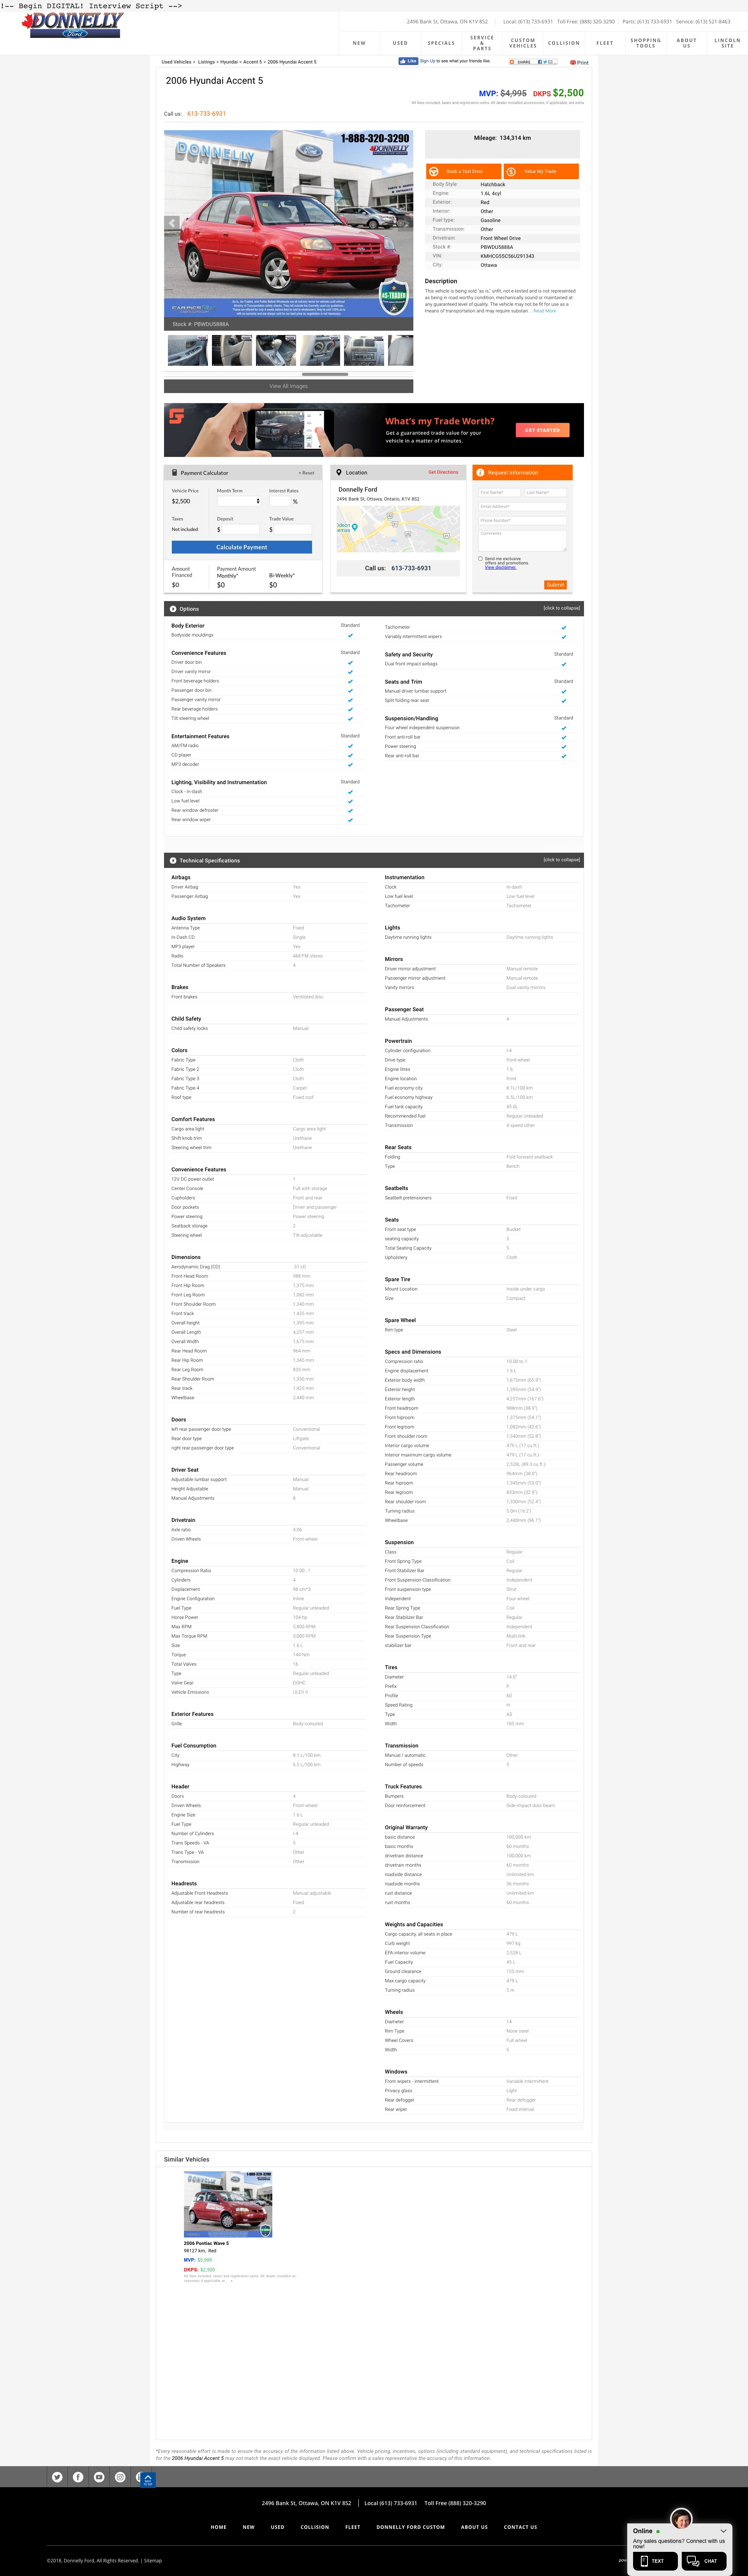car: (396, 215, 414, 233)
